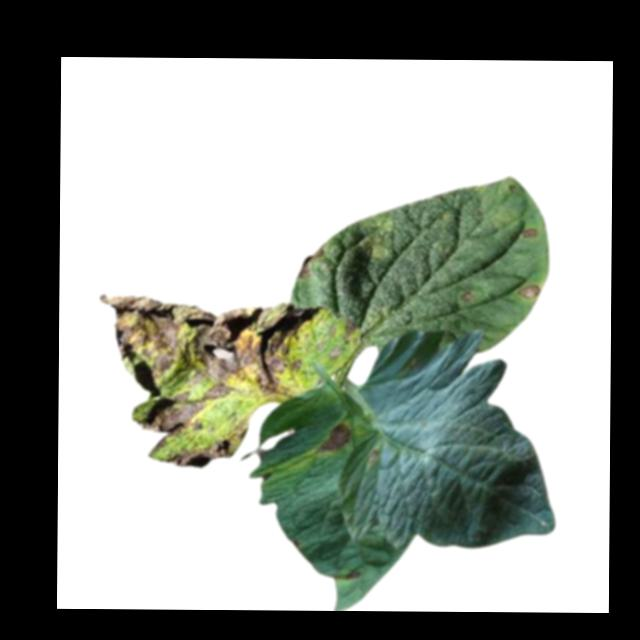Early_blight: (98, 292, 314, 431), (163, 436, 241, 472), (297, 245, 327, 279), (321, 423, 353, 452), (516, 282, 544, 298), (341, 321, 360, 342), (520, 226, 541, 239), (346, 567, 360, 581), (369, 447, 380, 463)
